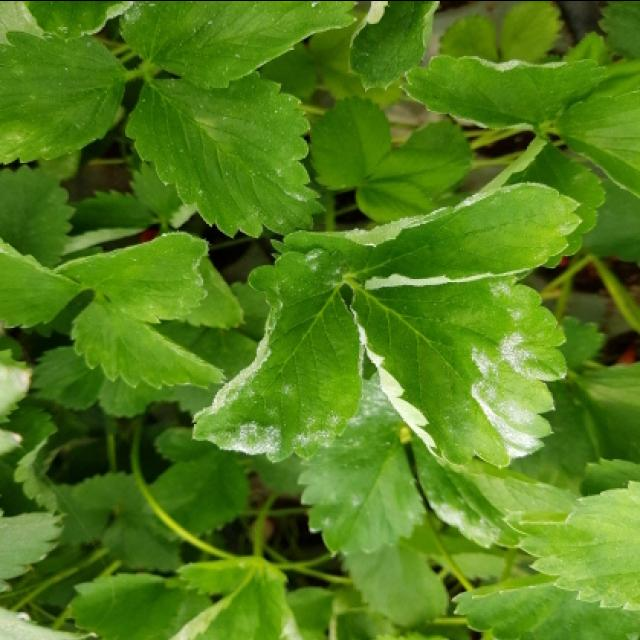Powdery Mildew Leaf: (349, 274, 570, 470), (189, 245, 367, 464), (269, 180, 583, 289), (296, 376, 425, 557), (410, 431, 579, 548), (397, 52, 620, 131)
